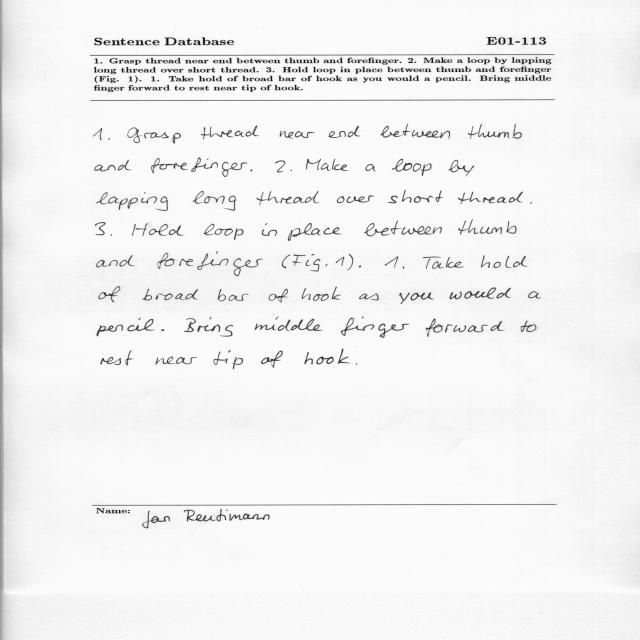word: (158, 252, 264, 276), (151, 158, 248, 177), (341, 317, 409, 338), (426, 319, 505, 337), (97, 192, 168, 211), (364, 221, 442, 237), (97, 318, 154, 337), (381, 124, 451, 139), (184, 317, 233, 337), (288, 223, 342, 241), (255, 317, 322, 331), (127, 127, 181, 144), (257, 191, 320, 205), (459, 220, 517, 235), (193, 191, 236, 211), (458, 191, 523, 204), (201, 126, 259, 140), (468, 124, 522, 139), (449, 288, 511, 300), (388, 191, 443, 204), (392, 159, 432, 176), (305, 349, 350, 364), (132, 223, 183, 236), (204, 224, 244, 240), (143, 289, 199, 300), (481, 255, 528, 268), (293, 254, 328, 271), (213, 350, 243, 369), (302, 287, 341, 301), (306, 159, 348, 171), (423, 257, 464, 269), (101, 351, 133, 366), (97, 255, 135, 267), (449, 160, 475, 176), (399, 292, 433, 304), (328, 126, 361, 138), (95, 160, 130, 171), (261, 351, 283, 368), (218, 289, 249, 301), (156, 357, 198, 365), (99, 287, 120, 302), (337, 196, 374, 204), (280, 131, 315, 139), (269, 289, 289, 302), (262, 223, 277, 236), (521, 321, 536, 332), (385, 256, 398, 268), (95, 222, 106, 235), (359, 294, 379, 301), (275, 161, 285, 173), (282, 255, 291, 268), (93, 128, 102, 140), (347, 254, 353, 270), (528, 292, 541, 299), (336, 257, 344, 266), (366, 164, 376, 171), (403, 266, 405, 269), (161, 329, 164, 331), (108, 138, 110, 140), (251, 170, 253, 172), (530, 202, 532, 204), (359, 266, 361, 268), (291, 170, 293, 171), (111, 234, 112, 236), (356, 363, 357, 365)
